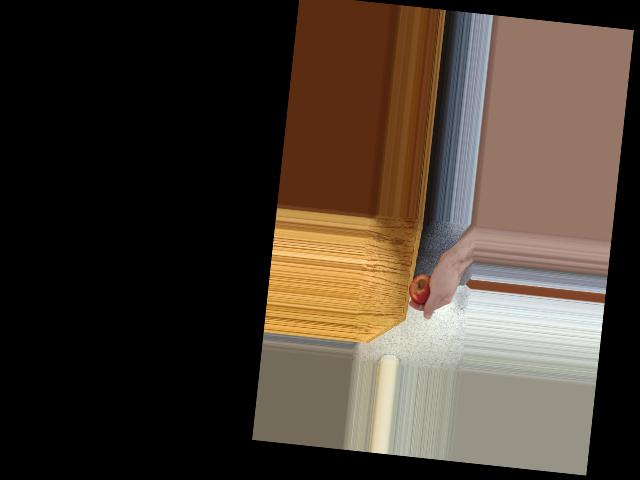apple: (406, 269, 444, 307)
